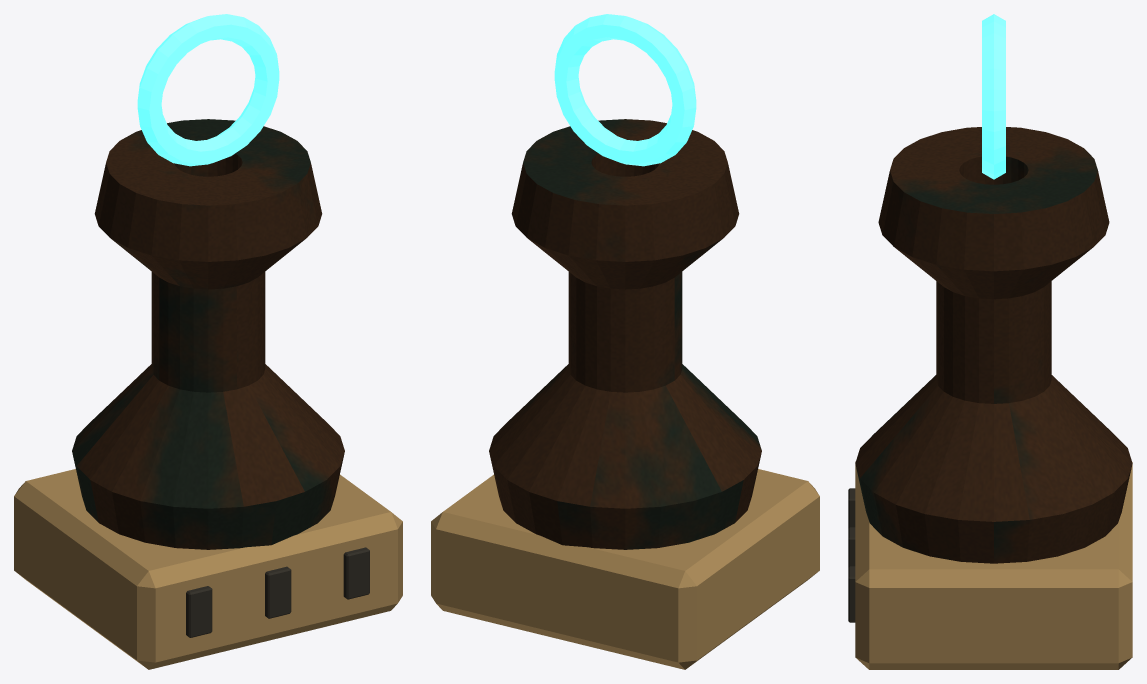
File: stamp_seal.fbx
3 views of the same model, side by side, from view 1: azimuth 30°, elevation 25°; view 2: azimuth 150°, elevation 25°; view 3: azimuth 270°, elevation 25° (orthographic).
Visible parts, largest first — view 1: stamp_seal_Body.012, stamp_seal_Grip.012; view 2: stamp_seal_Body.012, stamp_seal_Grip.012; view 3: stamp_seal_Body.012, stamp_seal_Grip.012.
Boxes of the visible parts, x1,y1,x2,y2 form: stamp_seal_Body.012: (14,119,402,669); stamp_seal_Grip.012: (137,14,279,166); stamp_seal_Body.012: (431,119,819,669); stamp_seal_Grip.012: (554,14,696,166); stamp_seal_Body.012: (848,127,1132,669); stamp_seal_Grip.012: (982,14,1005,179).
Bounding box in the file's own units: 0.135 × 0.281 × 0.123.
Materials: 4 (1 with a texture image).
